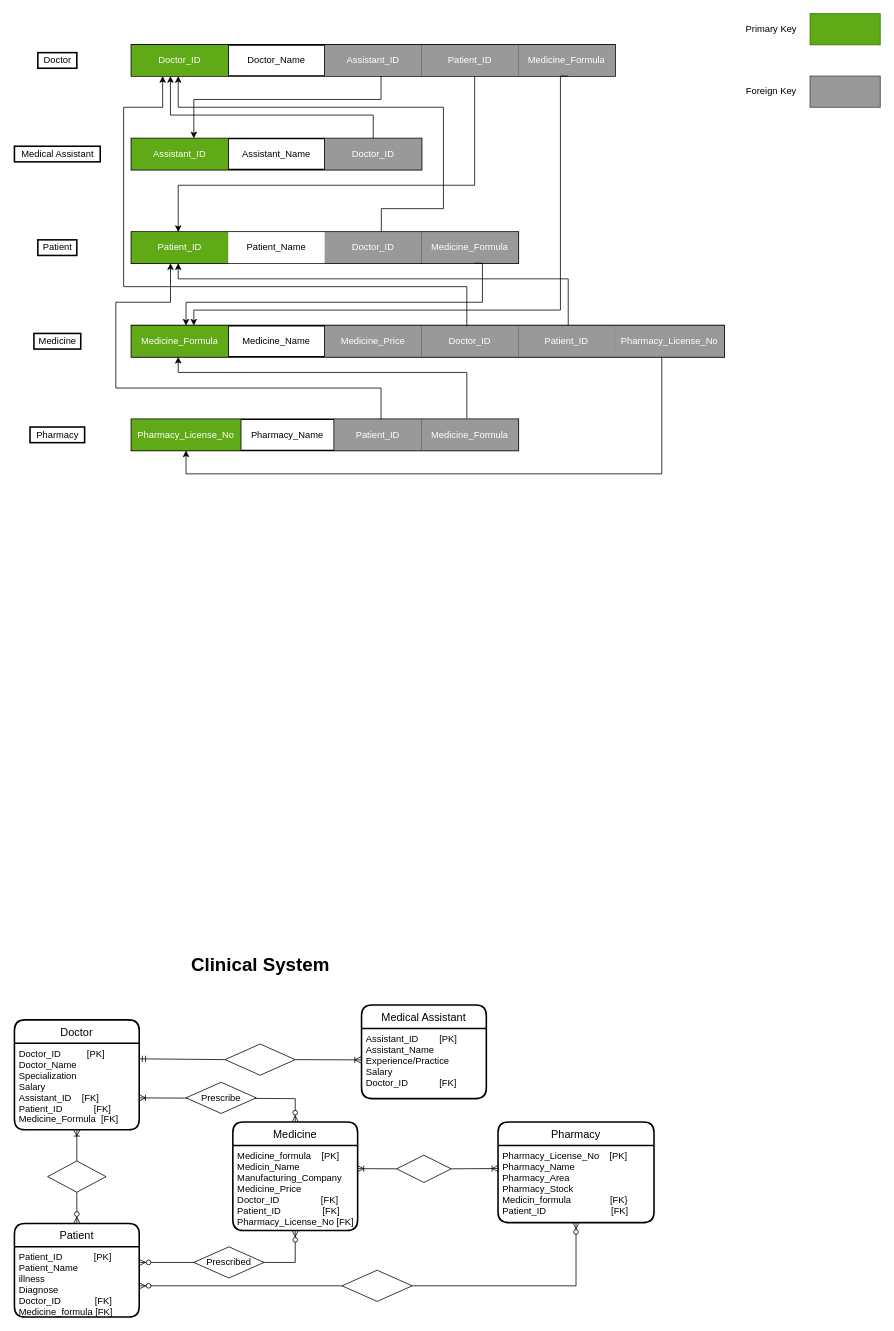
Some shapes in this 894 by 1331 pixel diagram are drawn without their labels. Each missing label, with the centre of its shape:
assists/ be assisted: pixel 259 1059
Buy/Sell: pixel 376 1285
stock: pixel 423 1168
Treats: pixel 76 1176
